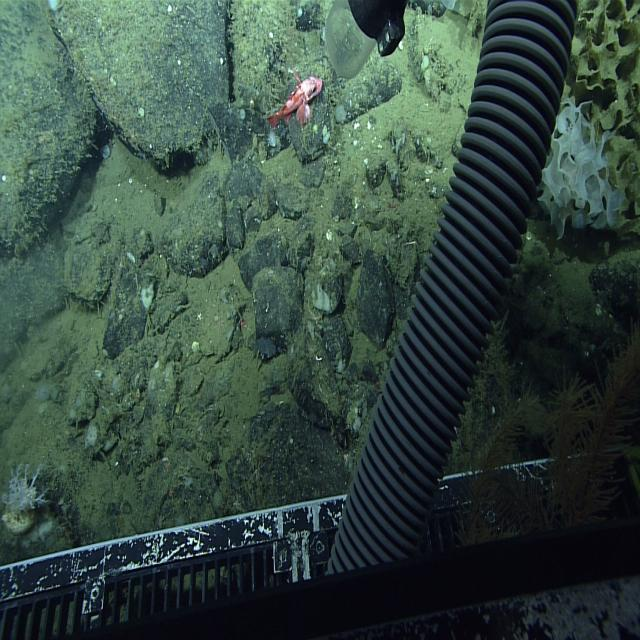Brittle Star: (210, 306, 232, 336), (228, 485, 245, 514)
